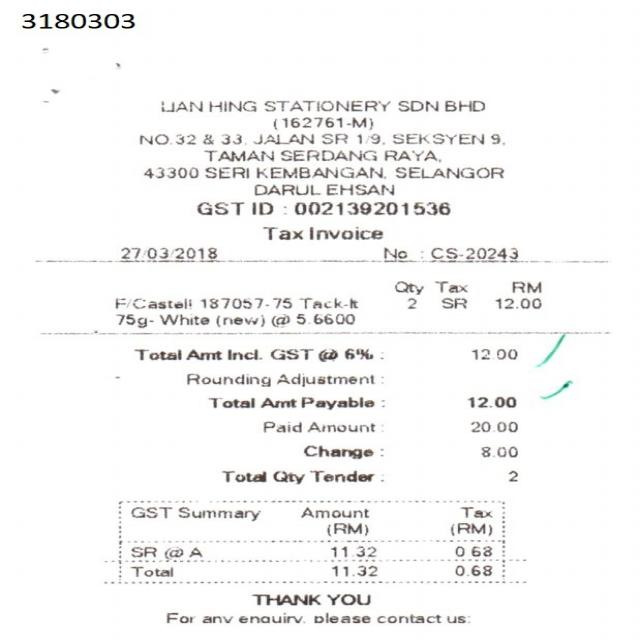text: (292, 200, 448, 213), (18, 12, 134, 27), (262, 98, 388, 110), (253, 166, 384, 177), (276, 372, 372, 386), (427, 246, 516, 261), (116, 246, 218, 259), (273, 115, 371, 128), (181, 371, 269, 385), (395, 166, 501, 177), (176, 505, 259, 519), (279, 149, 375, 160), (299, 395, 372, 408), (162, 309, 206, 330), (390, 132, 482, 142), (198, 297, 290, 307), (302, 445, 371, 458), (307, 226, 381, 238), (252, 592, 320, 605), (301, 505, 368, 517), (236, 610, 300, 622), (114, 298, 189, 308), (324, 183, 392, 194), (252, 183, 318, 194), (323, 520, 368, 536), (203, 150, 272, 160), (305, 420, 373, 430), (382, 149, 438, 161), (312, 610, 368, 622), (131, 347, 181, 360), (307, 470, 372, 480), (330, 564, 376, 578), (194, 200, 243, 213), (140, 166, 197, 177), (469, 346, 516, 359), (251, 133, 312, 143), (448, 521, 491, 535), (296, 297, 356, 307), (213, 314, 263, 326), (128, 504, 170, 518), (325, 546, 374, 558), (131, 563, 173, 577), (294, 313, 352, 323), (138, 133, 194, 143), (162, 544, 202, 558), (374, 614, 440, 622), (115, 313, 152, 327), (469, 420, 516, 431), (465, 396, 516, 406), (324, 593, 370, 604), (203, 166, 247, 177), (261, 226, 301, 238), (492, 297, 540, 307), (451, 563, 491, 575), (508, 278, 542, 292), (208, 100, 254, 110), (206, 396, 252, 406), (219, 470, 265, 480), (429, 279, 467, 291), (159, 100, 201, 110), (442, 100, 483, 110), (270, 348, 311, 358), (260, 420, 300, 430), (270, 470, 303, 482), (397, 100, 436, 110), (186, 348, 221, 359), (480, 446, 515, 457), (459, 505, 491, 517), (391, 280, 422, 292), (258, 396, 294, 406), (382, 246, 406, 260), (454, 545, 491, 554), (128, 546, 155, 558), (228, 348, 260, 358), (166, 610, 192, 622), (354, 132, 382, 142), (250, 200, 271, 213), (319, 132, 346, 142), (344, 348, 371, 358), (440, 297, 466, 307), (316, 348, 336, 360), (269, 313, 287, 326), (218, 133, 240, 143), (200, 615, 230, 622), (488, 133, 503, 143), (445, 615, 464, 622), (201, 133, 212, 143), (506, 470, 517, 480), (406, 297, 415, 307)
